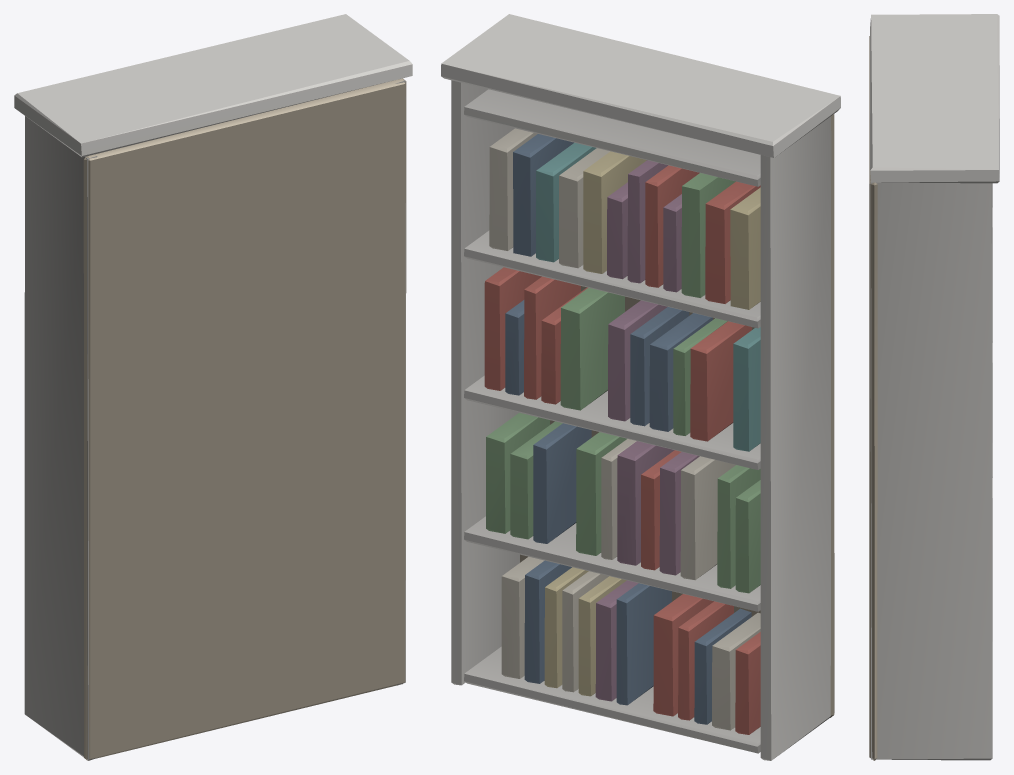
The model's file is furn_bookshelf__white_low.glb.
The picture shows the model from 3 angles, left to right: view 1: azimuth 30°, elevation 25°; view 2: azimuth 150°, elevation 25°; view 3: azimuth 270°, elevation 25°; orthographic projection. The views are drawn at different scales.
Bounding box in the file's own units: 1.03 × 1.85 × 0.3673.
